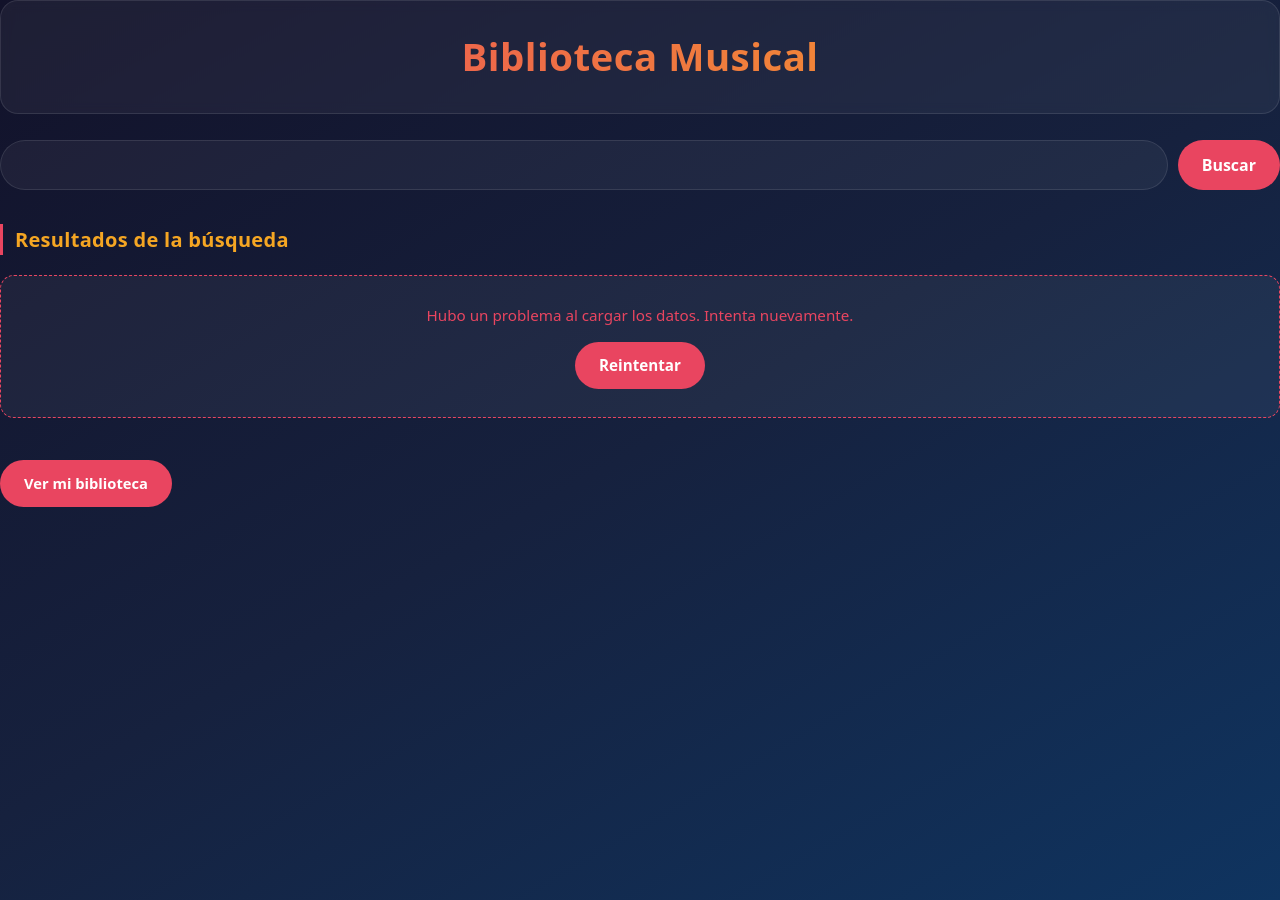
Test: SearchResults Component › should retry the search when the "Reintentar" button is clicked
Check: the text "Hubo un problema al cargar los datos. Intenta nuevamente." is shown, box [427, 305, 854, 325]
Click the button "Reintentar".
click(640, 366)  # box [575, 342, 705, 390]
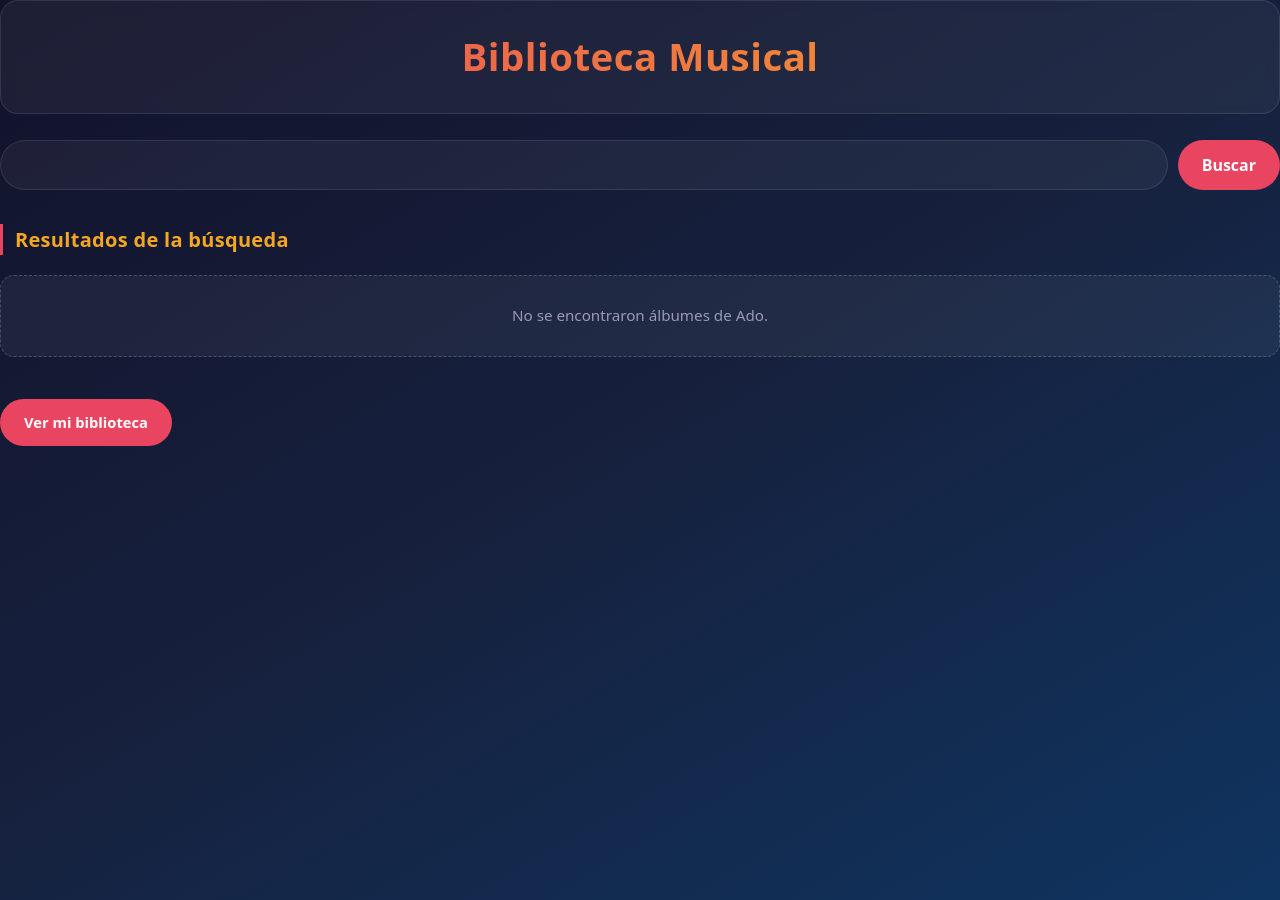
Check: the text "No se encontraron álbumes de Ado." is shown, box [0, 275, 1279, 357]
